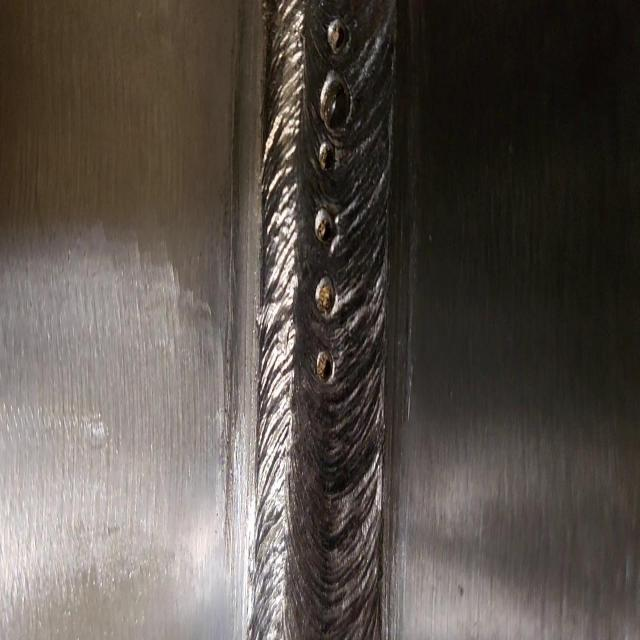Welding Line: (265, 13, 383, 640)
porosity: (312, 17, 353, 383)
